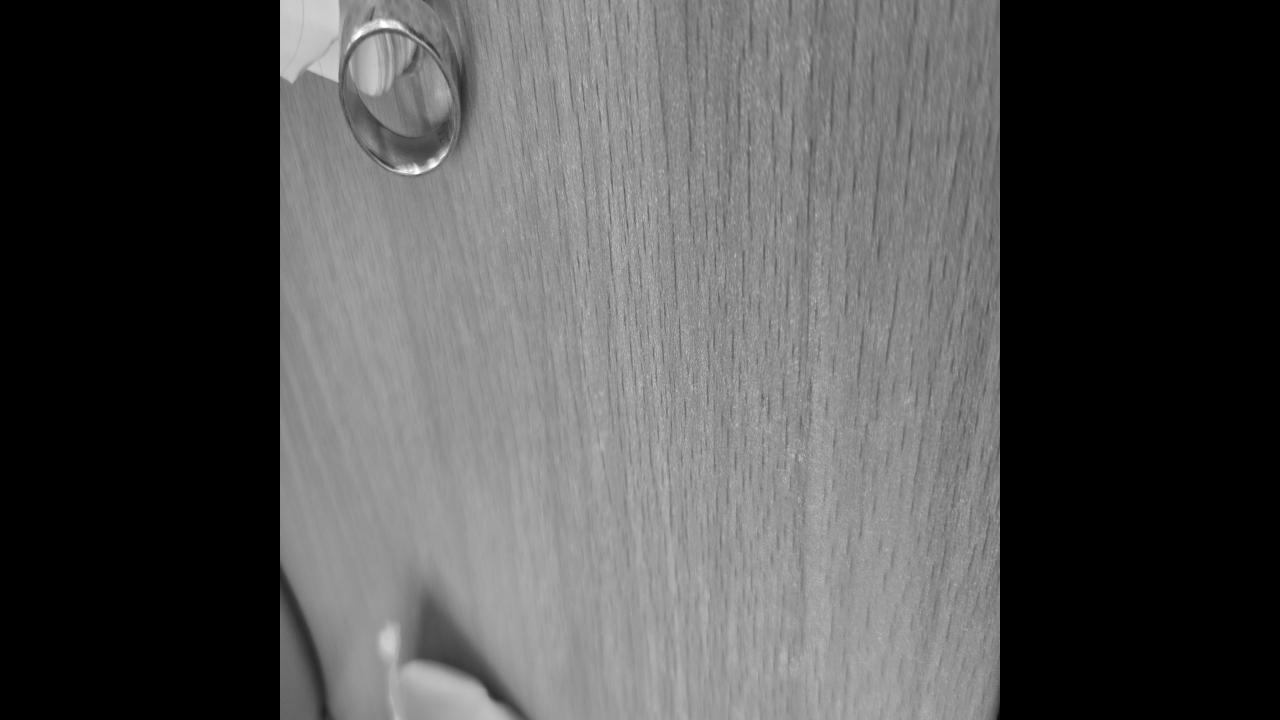ring: (337, 0, 465, 176)
